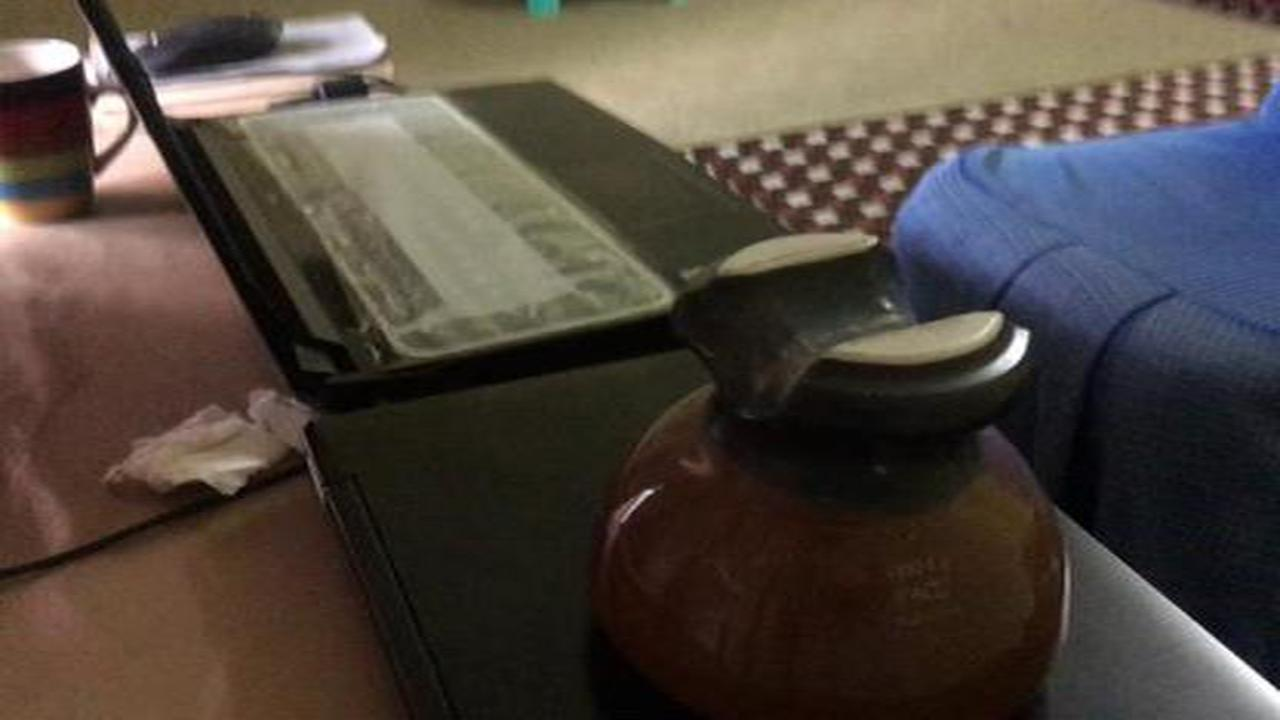insulator_pin: (594, 220, 1084, 719)
